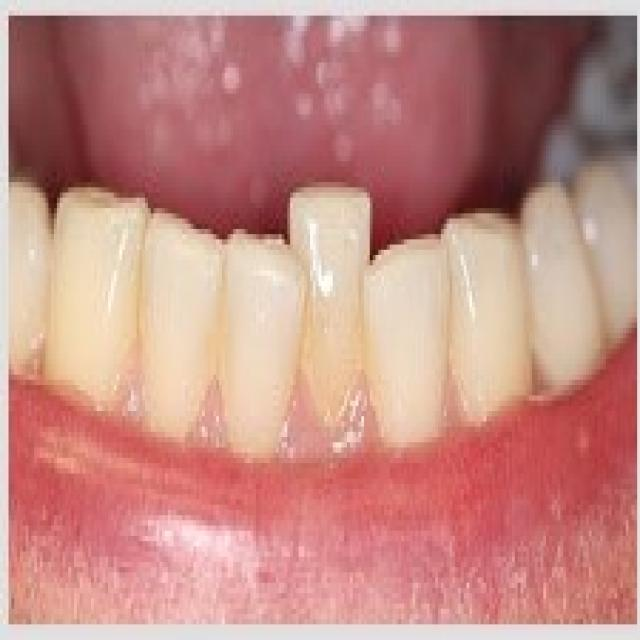tooth: (264, 198, 370, 437), (40, 198, 148, 390), (216, 234, 304, 458), (443, 172, 518, 432), (136, 219, 222, 442), (515, 198, 603, 400), (372, 276, 450, 442), (577, 156, 640, 328)
